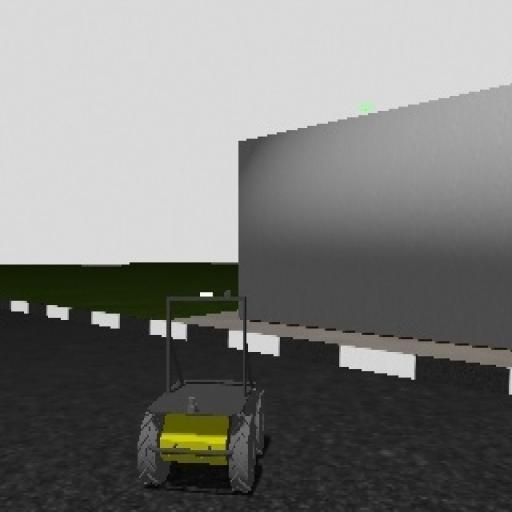huskya200: (130, 287, 272, 496)
